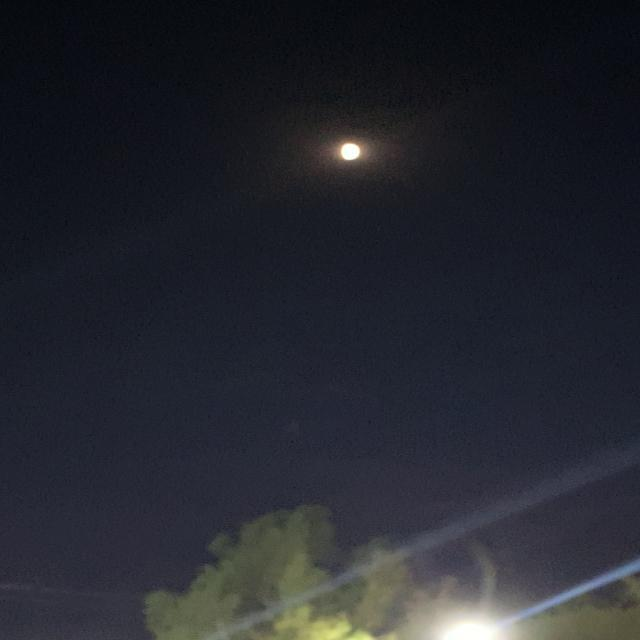moon: (318, 138, 382, 173)
